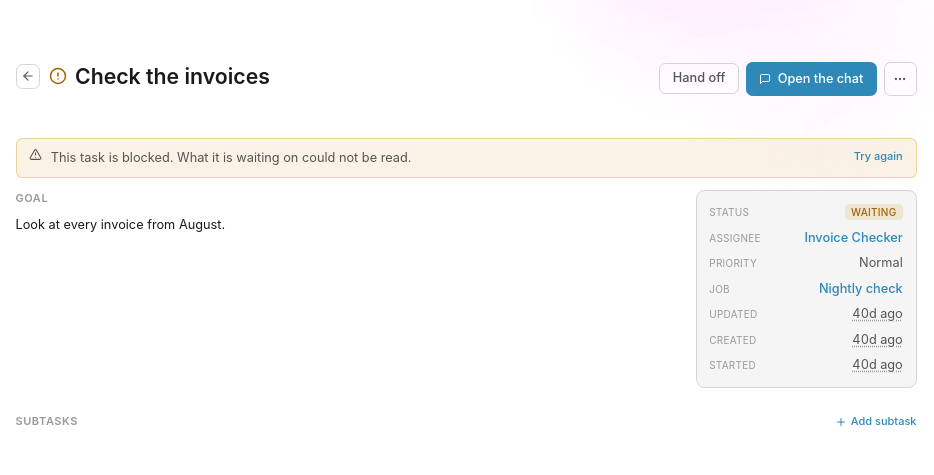
a blocked task whose inbox cannot be read › offers no re-run, because an unread inbox is not an empty one
The image size is (934, 475).
expect the heading "Check the invoices" is shown: met, box [75, 62, 270, 91]
expect the text "What it is waiting on could not be read" is shown: met, box [174, 150, 412, 164]
Click the button "Try again".
click(878, 156)  # box [854, 148, 903, 165]
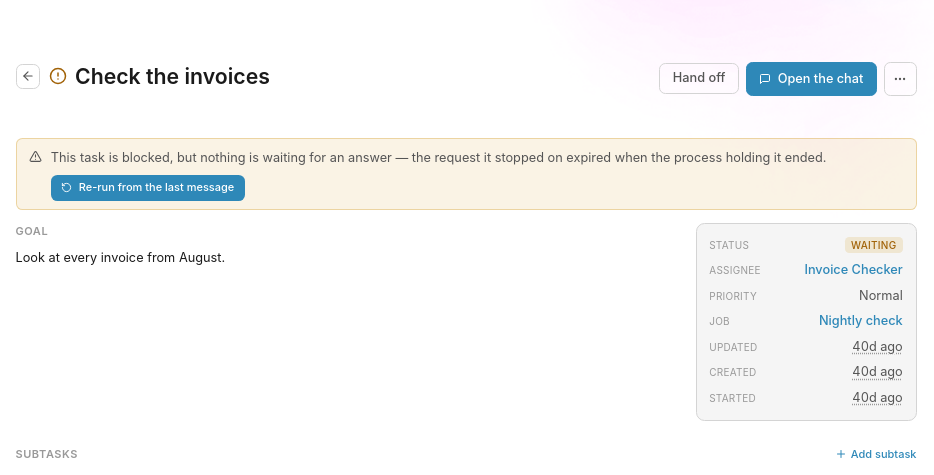
expect the button "Re-run from the last message" is shown: met, box [51, 175, 245, 201]
